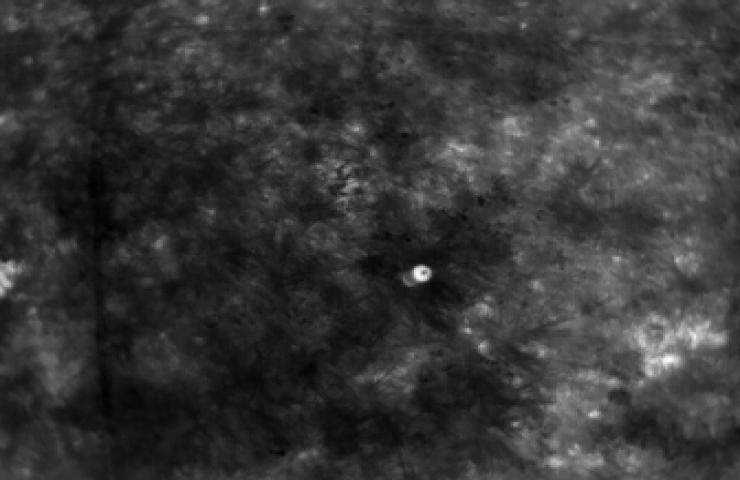landmines: (399, 262, 435, 289)
